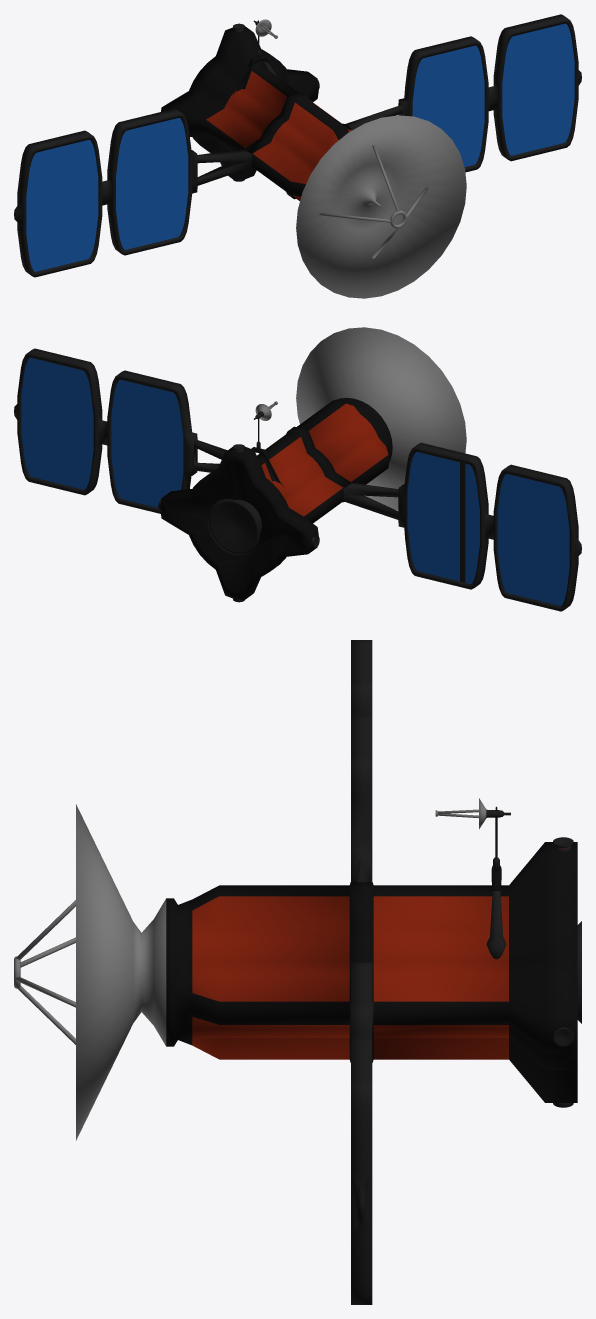
Rendered from Satellite.obj.
The picture shows the model from 3 angles, top to bottom: view 1: azimuth 30°, elevation 25°; view 2: azimuth 150°, elevation 25°; view 3: azimuth 270°, elevation 25°; orthographic projection. The views are drawn at different scales.
Parts seen in each view (by area): view 1: Satelite_Cylinder; view 2: Satelite_Cylinder; view 3: Satelite_Cylinder.
Part boxes in pixels (x1,y1,x2,y2): Satelite_Cylinder: (14, 14, 581, 298); Satelite_Cylinder: (14, 327, 581, 611); Satelite_Cylinder: (14, 640, 581, 1304).
Size of the model in its own units: 21.16 by 6.8 by 10.74.
